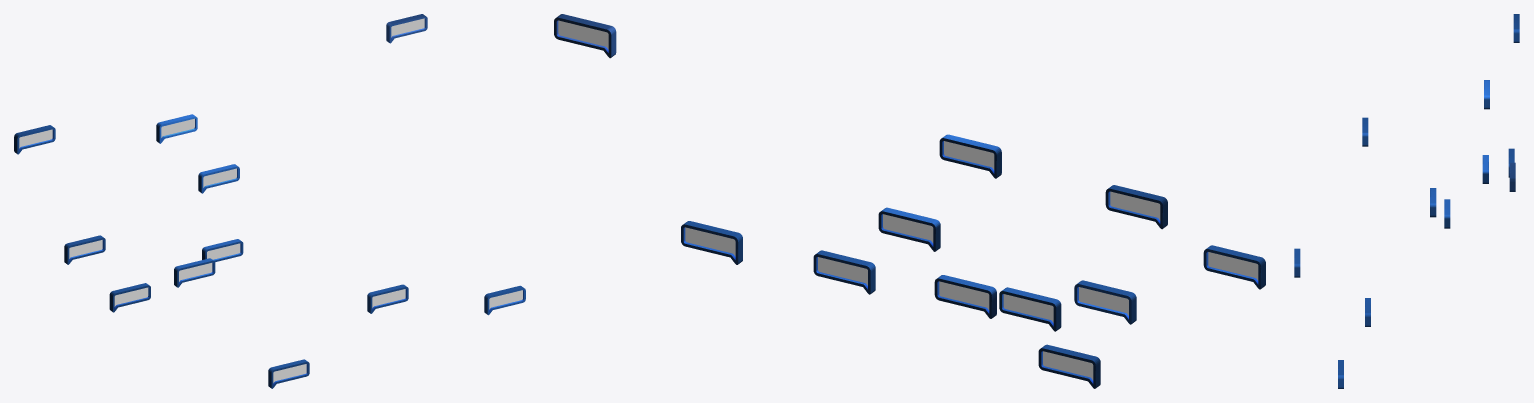
The model's file is pop_up_art.glb.
3 views of the same model, side by side, from view 1: azimuth 30°, elevation 25°; view 2: azimuth 150°, elevation 25°; view 3: azimuth 270°, elevation 25° (orthographic). The views are drawn at different scales.
Parts seen in each view (by area): view 1: pop_up_share_knowledge, pop_up_social_networks, pop_up_games, pop_up_development, pop_up_photography_right, pop_up_photography_left, pop_up_art, pop_up_running, pop_up_languages, pop_up_contact_me, pop_up_stereoscopy; view 2: pop_up_languages, pop_up_contact_me, pop_up_running, pop_up_share_knowledge, pop_up_photography_left, pop_up_games, pop_up_development, pop_up_social_networks, pop_up_stereoscopy, pop_up_art, pop_up_photography_right; view 3: pop_up_stereoscopy, pop_up_running, pop_up_games, pop_up_contact_me, pop_up_languages.
Boxes of the visible parts, box(x1,y1,x2,y2) form: pop_up_share_knowledge: box(367, 284, 408, 313); pop_up_social_networks: box(156, 114, 197, 143); pop_up_games: box(109, 283, 150, 312); pop_up_development: box(198, 164, 239, 193); pop_up_photography_right: box(484, 285, 525, 315); pop_up_photography_left: box(64, 235, 105, 264); pop_up_art: box(14, 125, 55, 154); pop_up_running: box(268, 359, 309, 388); pop_up_languages: box(386, 14, 427, 43); pop_up_contact_me: box(174, 258, 215, 287); pop_up_stereoscopy: box(202, 239, 243, 261); pop_up_languages: box(554, 14, 616, 58); pop_up_contact_me: box(999, 287, 1061, 331); pop_up_running: box(1074, 280, 1136, 324); pop_up_share_knowledge: box(813, 250, 875, 294); pop_up_photography_left: box(1038, 344, 1100, 388); pop_up_games: box(1203, 245, 1265, 289); pop_up_development: box(878, 207, 940, 251); pop_up_social_networks: box(939, 134, 1001, 178); pop_up_stereoscopy: box(934, 275, 996, 318); pop_up_art: box(1105, 185, 1167, 229); pop_up_photography_right: box(681, 221, 742, 264); pop_up_stereoscopy: box(1444, 199, 1450, 228); pop_up_running: box(1294, 248, 1300, 277); pop_up_games: box(1362, 117, 1368, 146); pop_up_contact_me: box(1430, 188, 1436, 217); pop_up_languages: box(1509, 162, 1515, 191).
Size of the model in its own units: 35.1 by 18.2 by 17.57.
11 materials, 11 textured.
